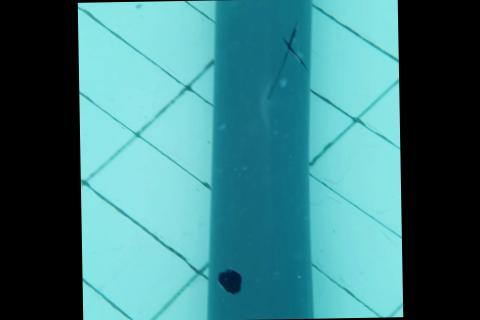kebocoran: (215, 267, 243, 293)
keretakan: (264, 24, 307, 97)
